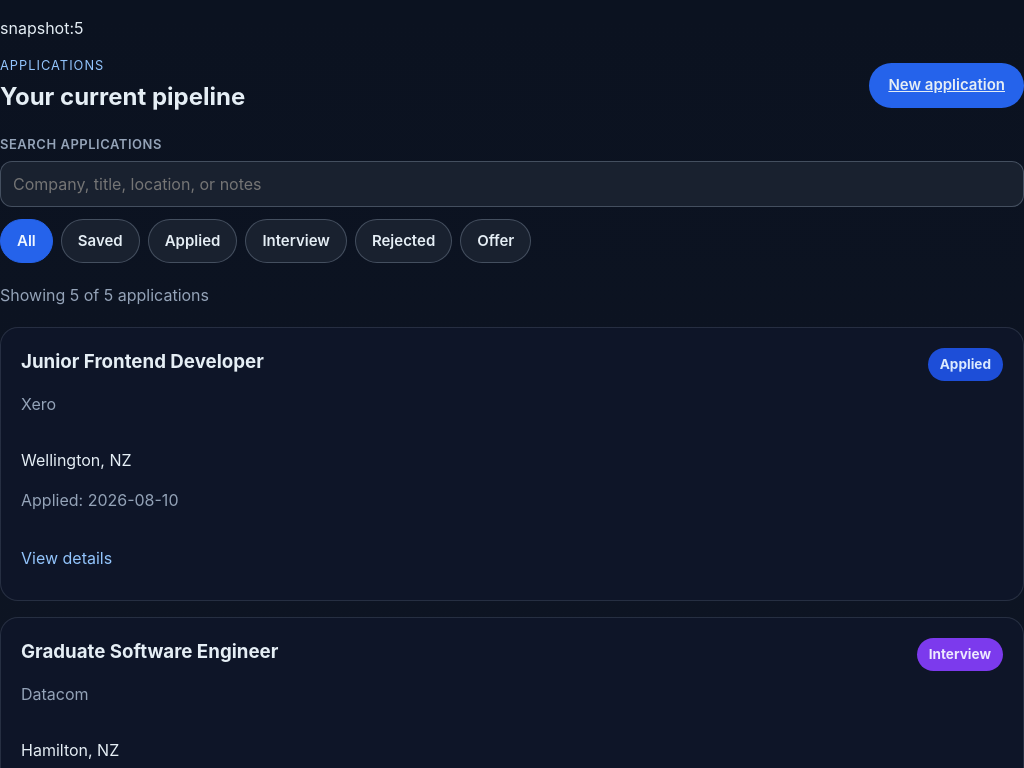
Scenario: filtering the applications list by status › shows only the Interview records once the Interview chip is pressed
This screenshot has width=1024, height=768.
Expected: the text "Datacom" is shown, top-left (21, 684), bottom-right (89, 704)
Click the button "Interview".
click(296, 241)  # box top-left (245, 219), bottom-right (347, 263)
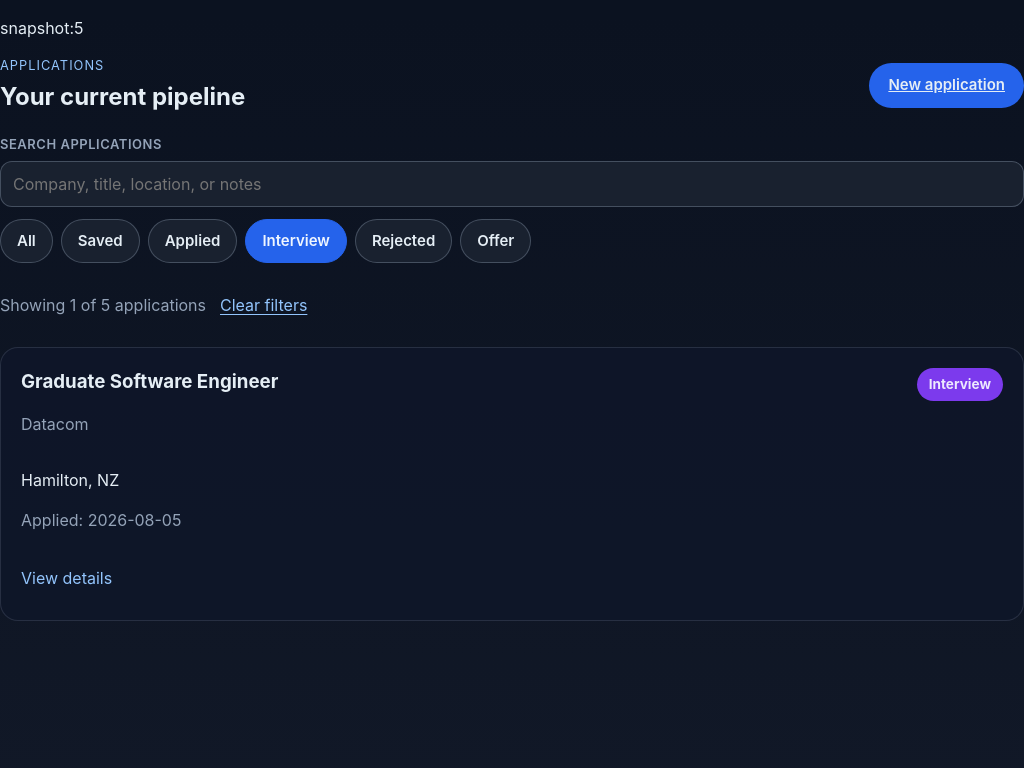
Expected: the text "Datacom" is shown, top-left (21, 414), bottom-right (89, 434)
Expected: the text "Xero" is gone
